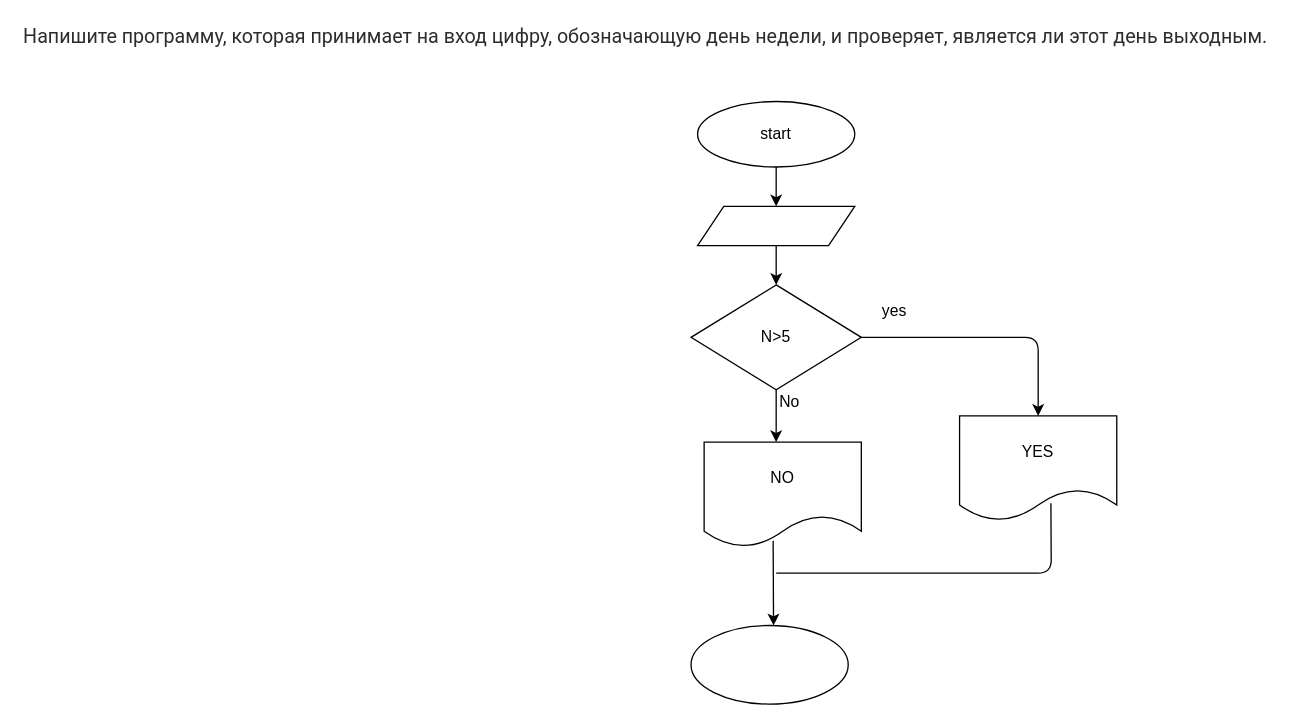
This 1289x727 diagram has some shape labels left out. Here are the shapes that lost their labels. From the top down, the box of each, then its label:
(696, 205, 855, 246): N[1...7]
(690, 624, 848, 704): end
